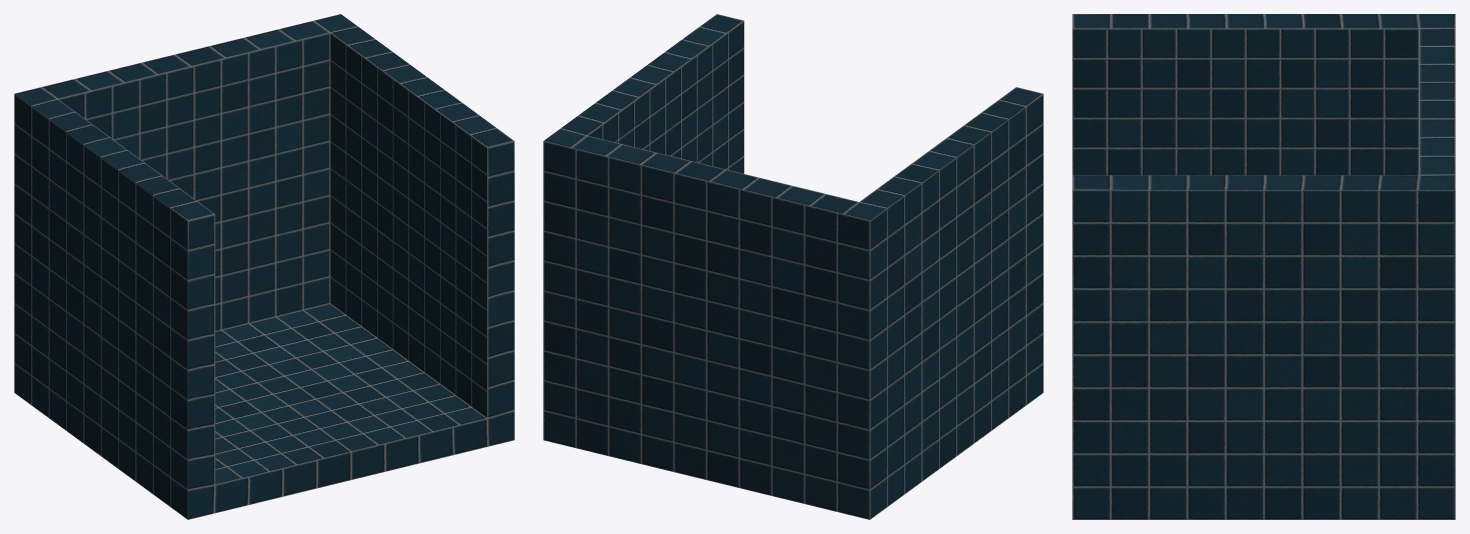
The model's file is room0.fbx.
The picture shows the model from 3 angles, left to right: view 1: azimuth 30°, elevation 25°; view 2: azimuth 150°, elevation 25°; view 3: azimuth 270°, elevation 25°; orthographic projection. The views are drawn at different scales.
Visible parts, largest first — view 1: room0; view 2: room0; view 3: room0.
Part boxes in pixels (x1,y1,x2,y2): room0: (14,14,514,519); room0: (543,14,1043,519); room0: (1072,14,1455,519).
Size of the model in its own units: 12 by 10.51 by 11.05.
